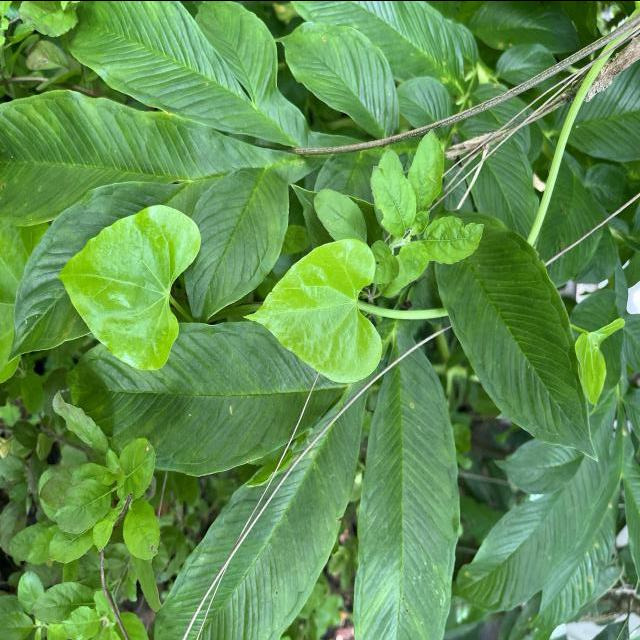Tinospora cordifolia: (55, 202, 204, 372), (240, 236, 384, 385)
